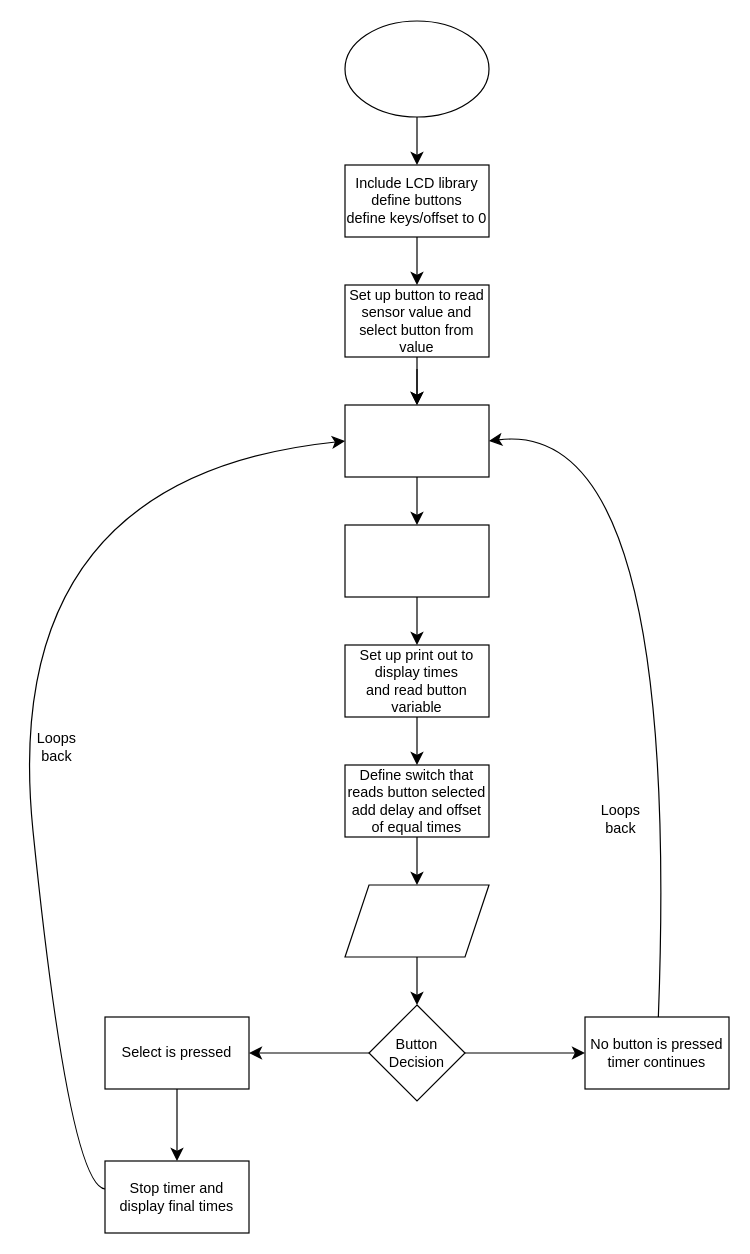
This 750x1254 diagram has some shape labels left out. The shapes that lost their labels are listed below. From the top down, each one's box as (x1, y1, x2, y2) in pixels, then its label:
(344, 20, 489, 117): Start
(344, 404, 489, 477): Beginning of Loop Setup LCD screen
(344, 524, 489, 597): Set up math for timer ms, sec, and min
(344, 884, 489, 957): Button press
